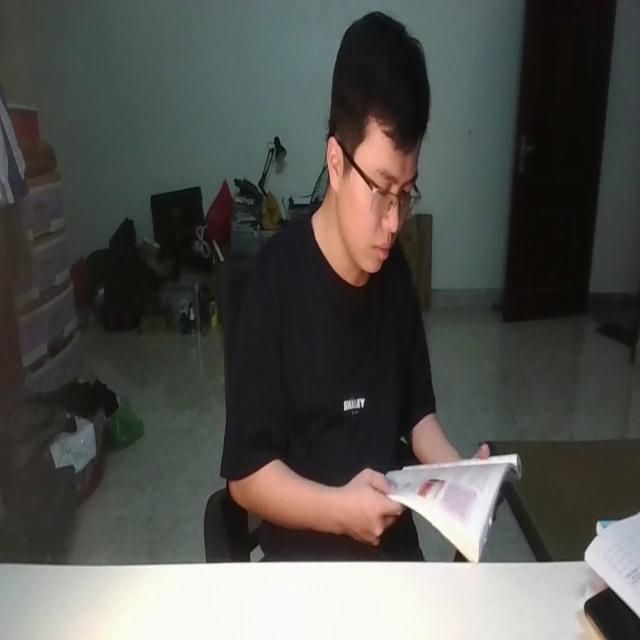book: (373, 446, 522, 564)
student: (222, 4, 494, 569)
